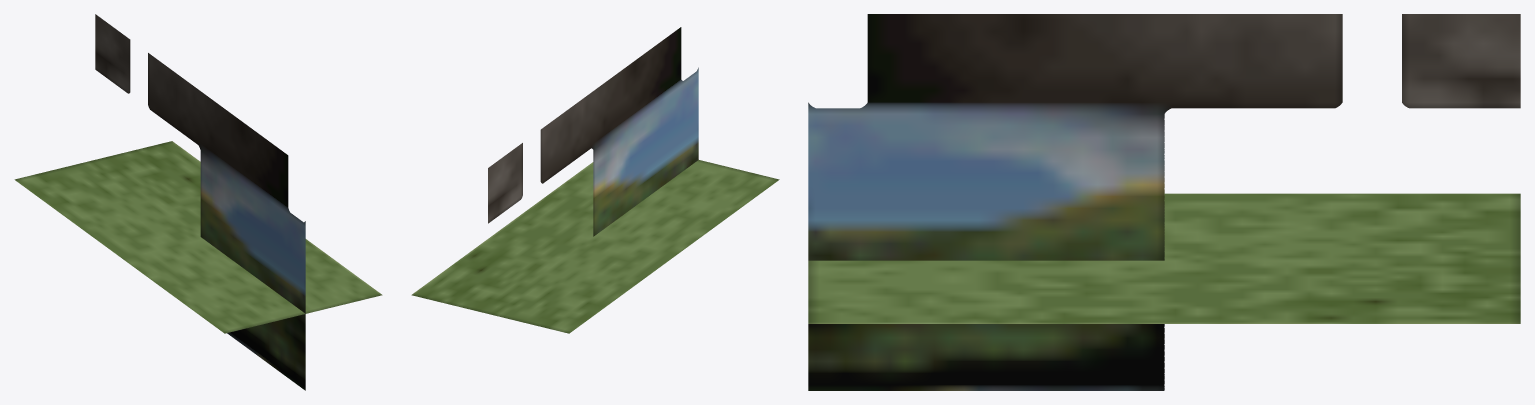
3 renders of one model, left to right at view 1: azimuth 30°, elevation 25°; view 2: azimuth 150°, elevation 25°; view 3: azimuth 270°, elevation 25°, orthographic. The views are drawn at different scales.
Visible parts, largest first — view 1: T1L3M005_3; view 2: T1L3M005_3; view 3: T1L3M005_3.
Part boxes in pixels (x1,y1,x2,y2): T1L3M005_3: (14, 14, 382, 390); T1L3M005_3: (411, 27, 779, 333); T1L3M005_3: (808, 14, 1520, 390).
Size of the model in its own units: 0.8154 by 1.1 by 1.88.
